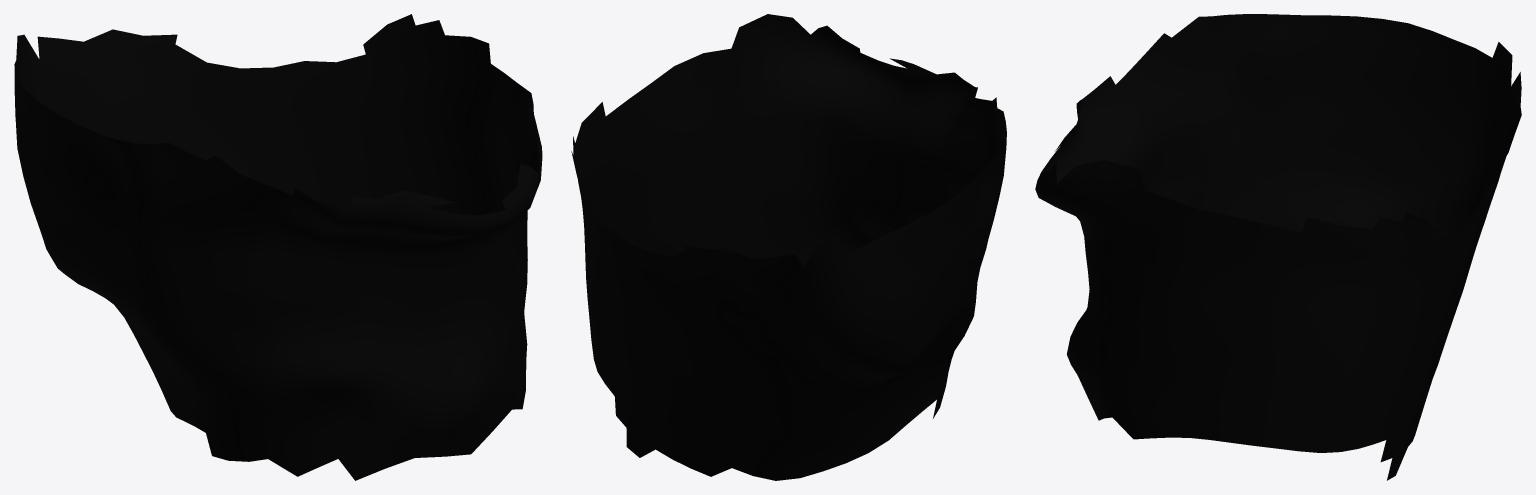
Rendered from Pie1D.obj.
The picture shows the model from 3 angles, left to right: view 1: azimuth 30°, elevation 25°; view 2: azimuth 150°, elevation 25°; view 3: azimuth 270°, elevation 25°; orthographic projection. The views are drawn at different scales.
Visible parts, largest first — view 1: Pie1D; view 2: Pie1D; view 3: Pie1D.
Part boxes in pixels (box(x1,y1,x2,y2)): Pie1D: box(14, 14, 542, 480); Pie1D: box(571, 14, 1006, 480); Pie1D: box(1035, 14, 1521, 480).
Size of the model in its own units: 0.5461 by 0.4588 by 0.6084.
1 material, 1 textured.
